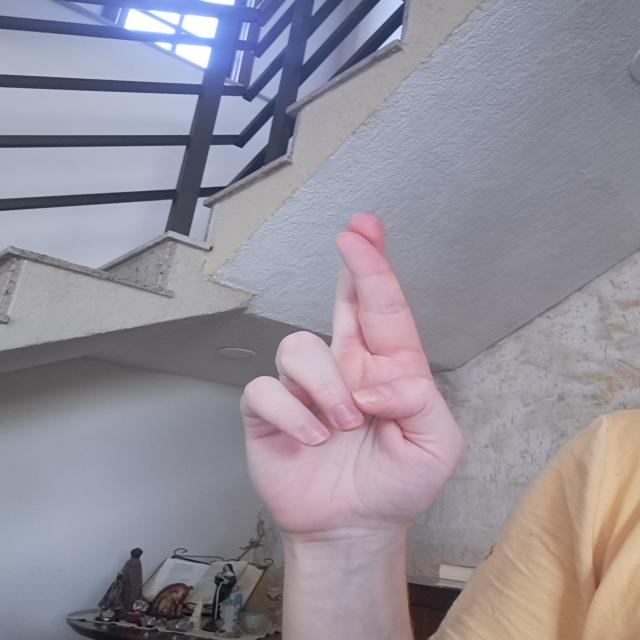R: (217, 200, 476, 547)
